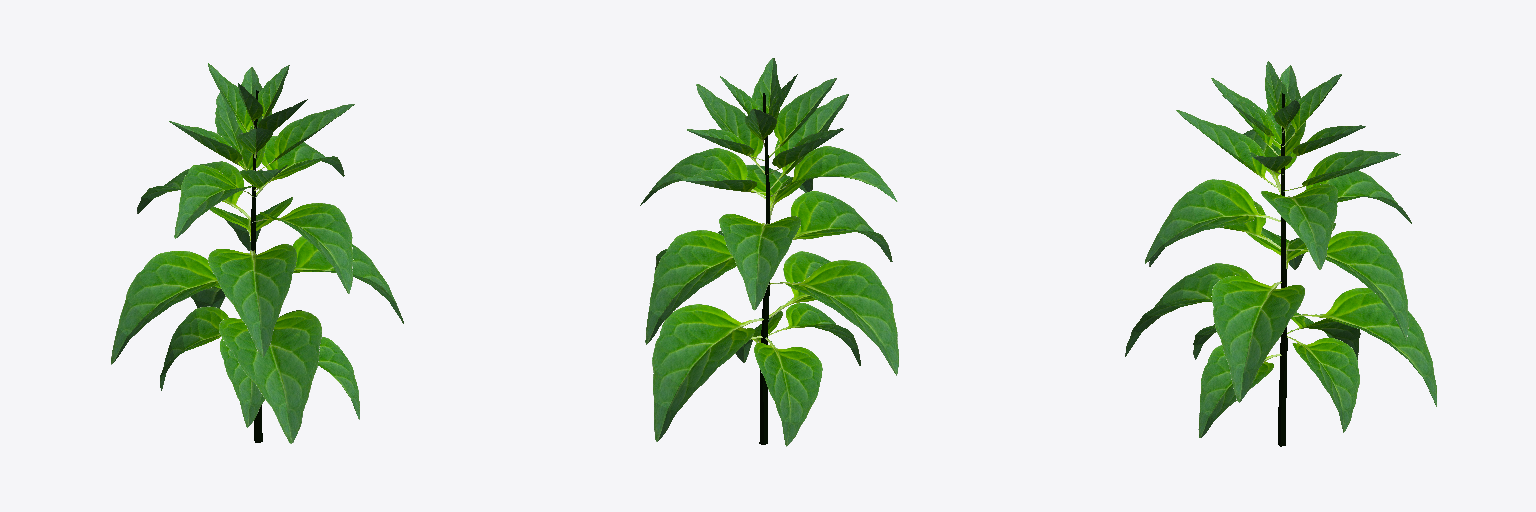
The picture shows the model from 3 angles: view 1: azimuth 30°, elevation 25°; view 2: azimuth 150°, elevation 25°; view 3: azimuth 270°, elevation 25°; orthographic projection.
Visible parts, largest first — view 1: polySurface11; view 2: polySurface11; view 3: polySurface11.
Part boxes in pixels (x1,y1,x2,y2): polySurface11: (111,63,403,443); polySurface11: (640,58,898,446); polySurface11: (1125,61,1436,446).
Size of the model in its own units: 5.15 by 5.95 by 5.42.
2 materials, 1 textured.